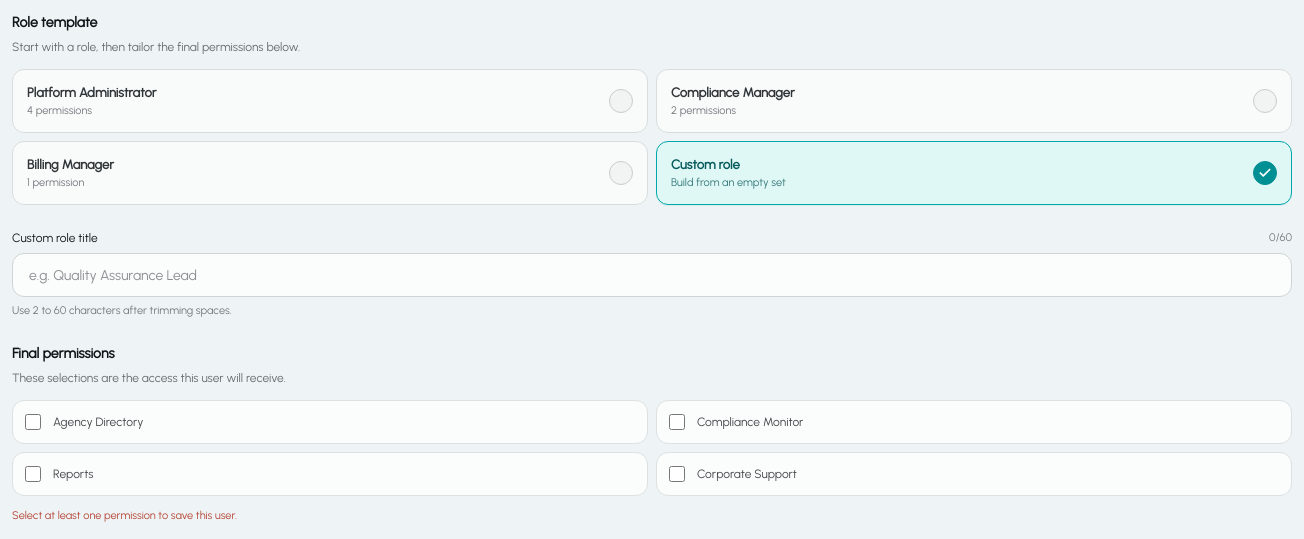
Test: RolePermissionsFields › seeds predefined permissions and intersects them with creator access
The width and height of the screenshot is (1304, 539).
Click the button "Platform Administrator 4 permissions" at (92, 92), box [12,69,648,133]
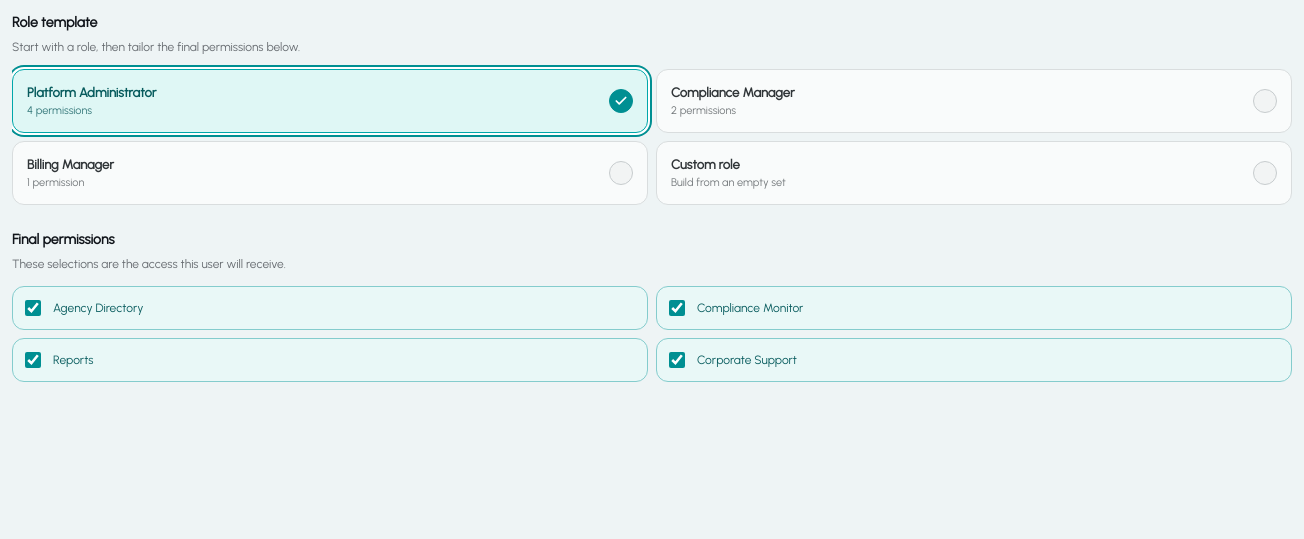
Result: the checkbox labelled "Compliance Monitor" is checked at [669,300,685,316]
Result: the checkbox labelled "Reports" is checked at [25,352,41,368]
